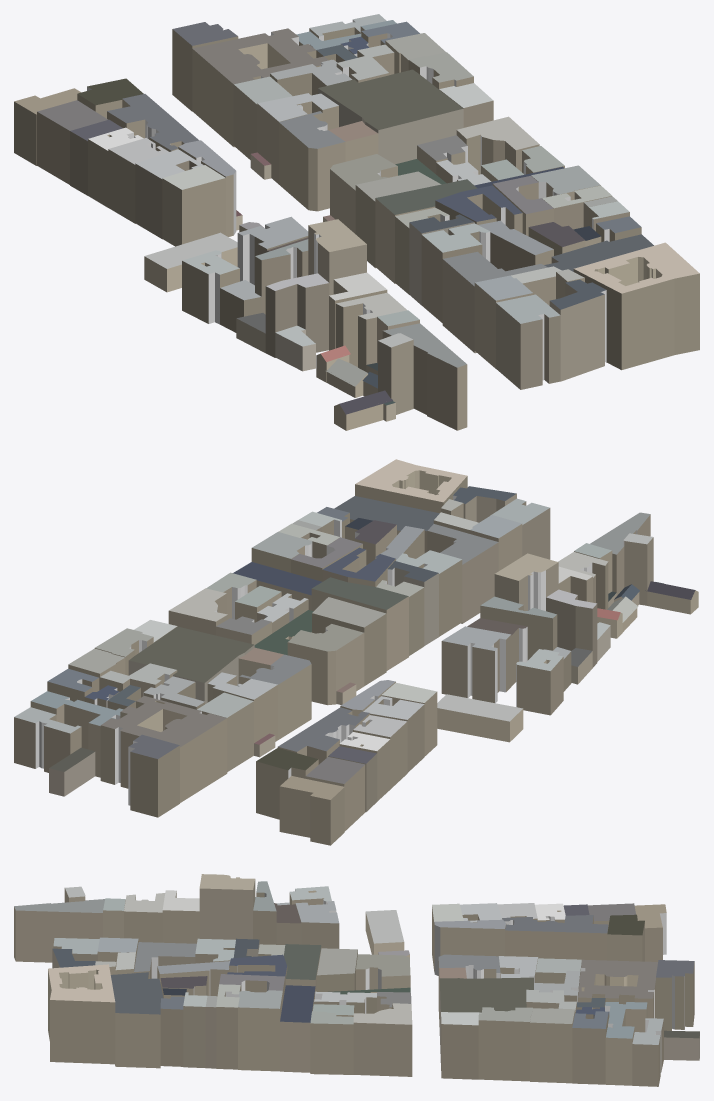
3 views of the same model, one above another, from view 1: azimuth 30°, elevation 25°; view 2: azimuth 150°, elevation 25°; view 3: azimuth 270°, elevation 25° (orthographic). The views are drawn at different scales.
Parts seen in each view (by area): view 1: tuile; view 2: tuile; view 3: tuile.
Part boxes in pixels (x1,y1,x2,y2): tuile: (14,14,699,430); tuile: (14,459,698,845); tuile: (14,874,699,1086).
Bounding box in the file's own units: 147 × 35.67 × 266.
